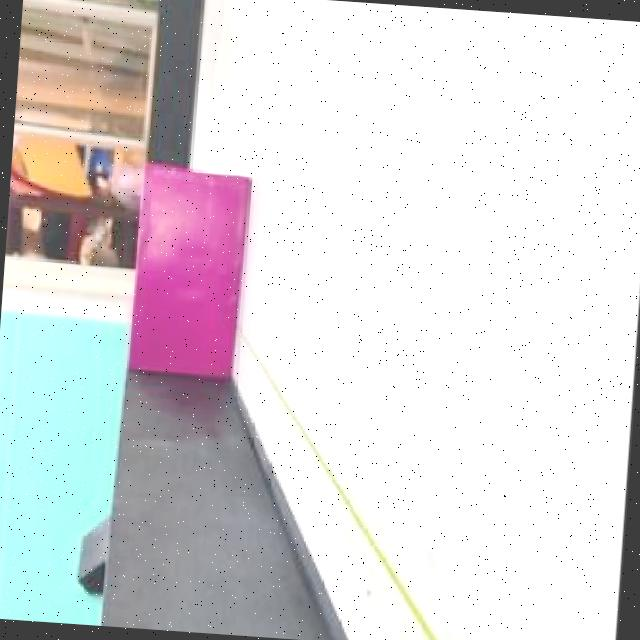xparking: (134, 170, 246, 360)
